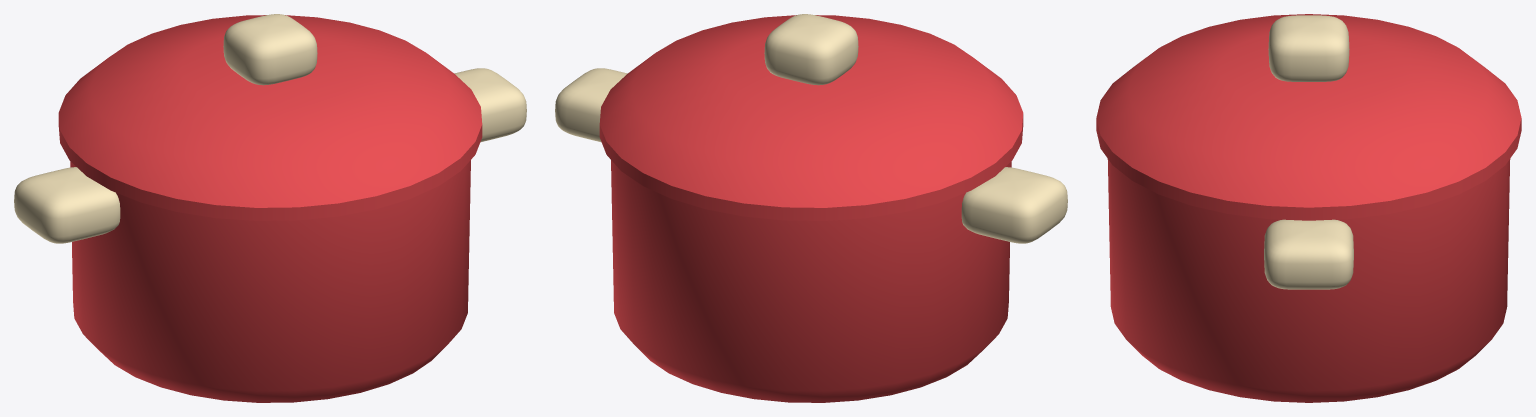
File: cacarola_vermelha.glb
3 views of the same model, side by side, from view 1: azimuth 30°, elevation 25°; view 2: azimuth 150°, elevation 25°; view 3: azimuth 270°, elevation 25° (orthographic).
Visible parts, largest first — view 1: cacarola_vermelha, tampa; view 2: cacarola_vermelha, tampa; view 3: cacarola_vermelha, tampa.
Boxes of the visible parts, x1=… form: cacarola_vermelha: x1=14, y1=68, x2=526, y2=402; tampa: x1=58, y1=14, x2=482, y2=220; cacarola_vermelha: x1=555, y1=68, x2=1067, y2=402; tampa: x1=599, y1=14, x2=1023, y2=220; cacarola_vermelha: x1=1107, y1=159, x2=1510, y2=402; tampa: x1=1096, y1=14, x2=1521, y2=220.
Size of the model in its own units: 0.31 by 0.185 by 0.236.
1 material, 1 textured.
